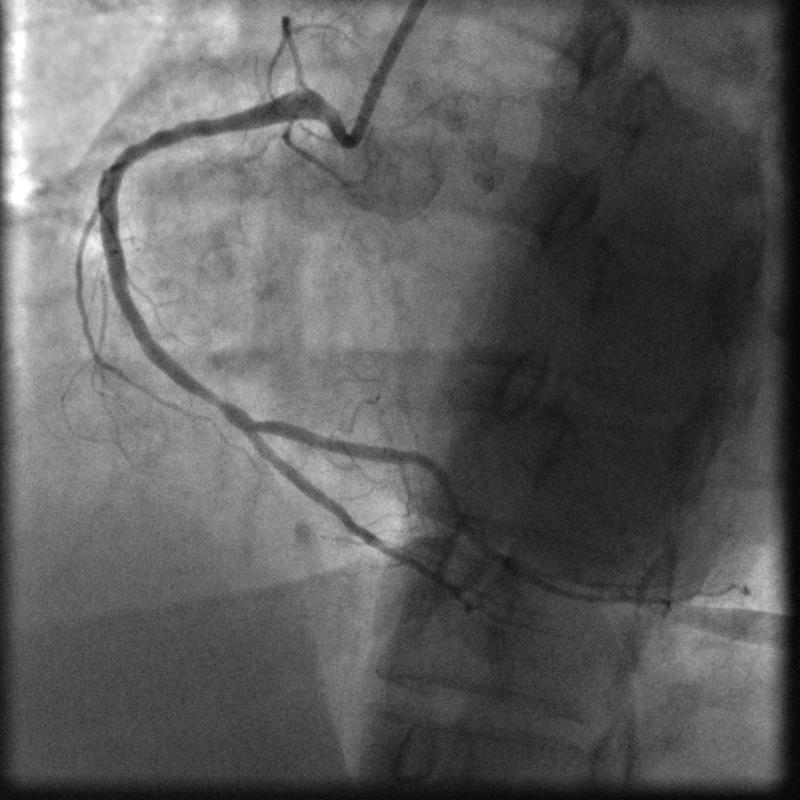Stenosis: (198, 379, 234, 434)
